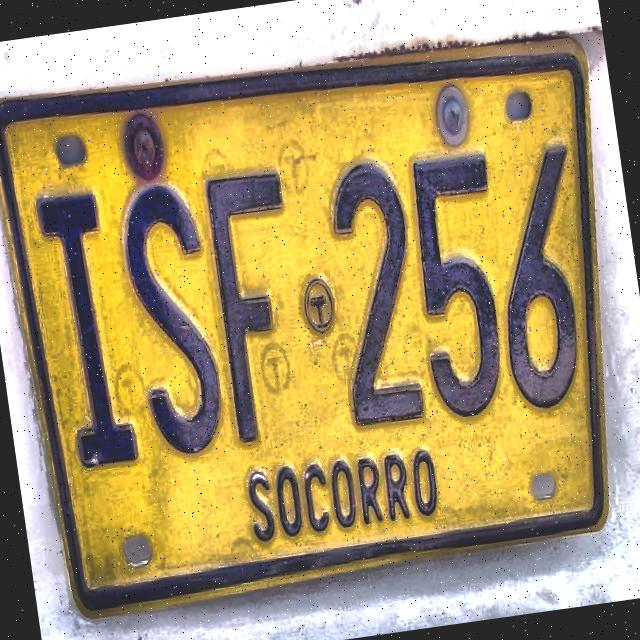2: (309, 150, 436, 430)
5: (405, 148, 509, 422)
6: (501, 136, 580, 416)
F: (201, 164, 318, 442)
I: (34, 183, 144, 474)
S: (113, 178, 232, 460)
